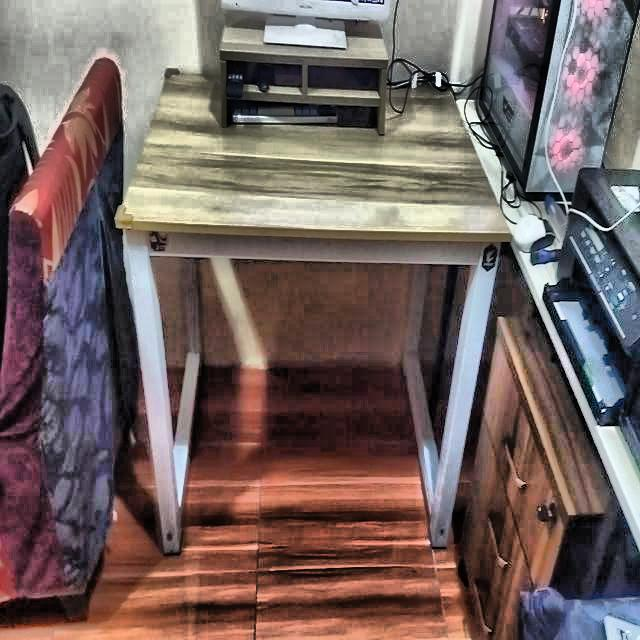mesa: (116, 61, 498, 554)
